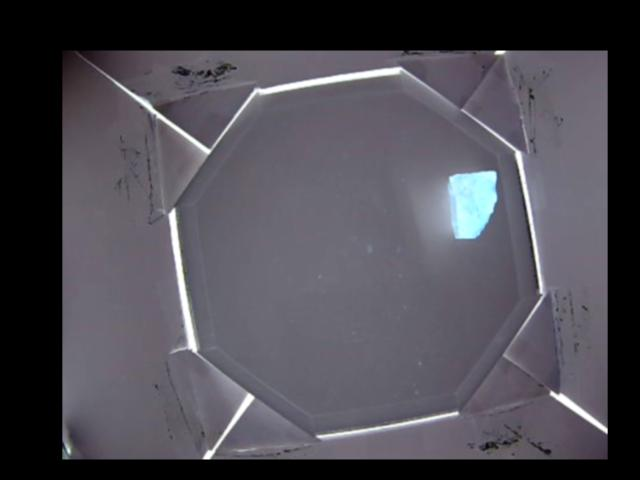Brisk: (446, 170, 499, 239)
